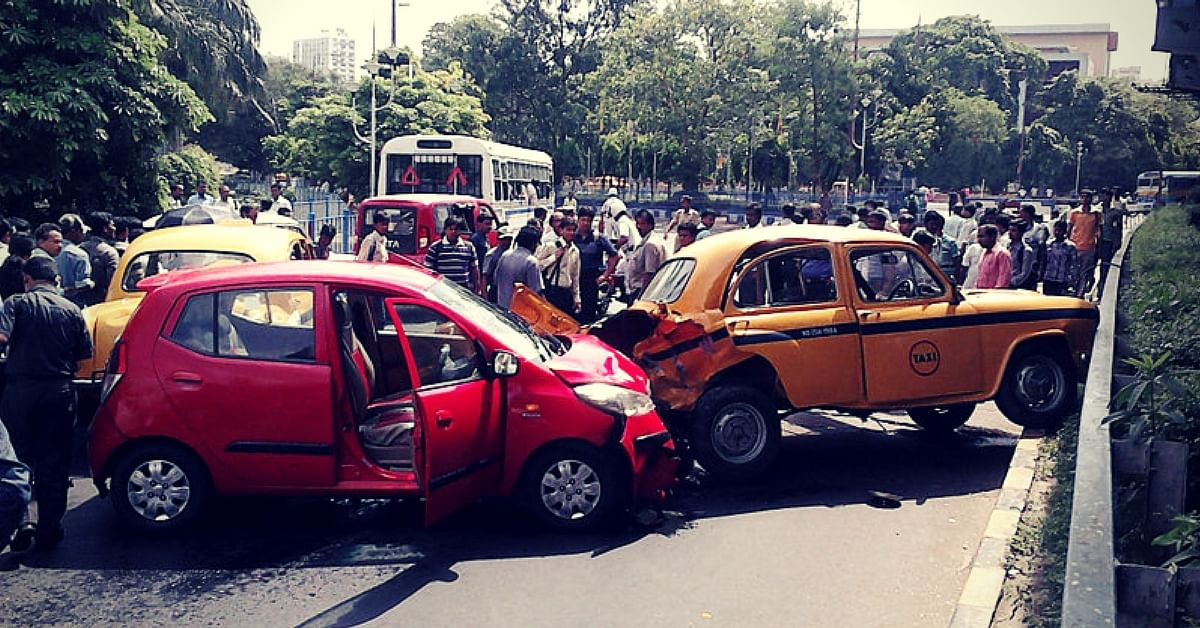accident: (231, 266, 931, 519)
